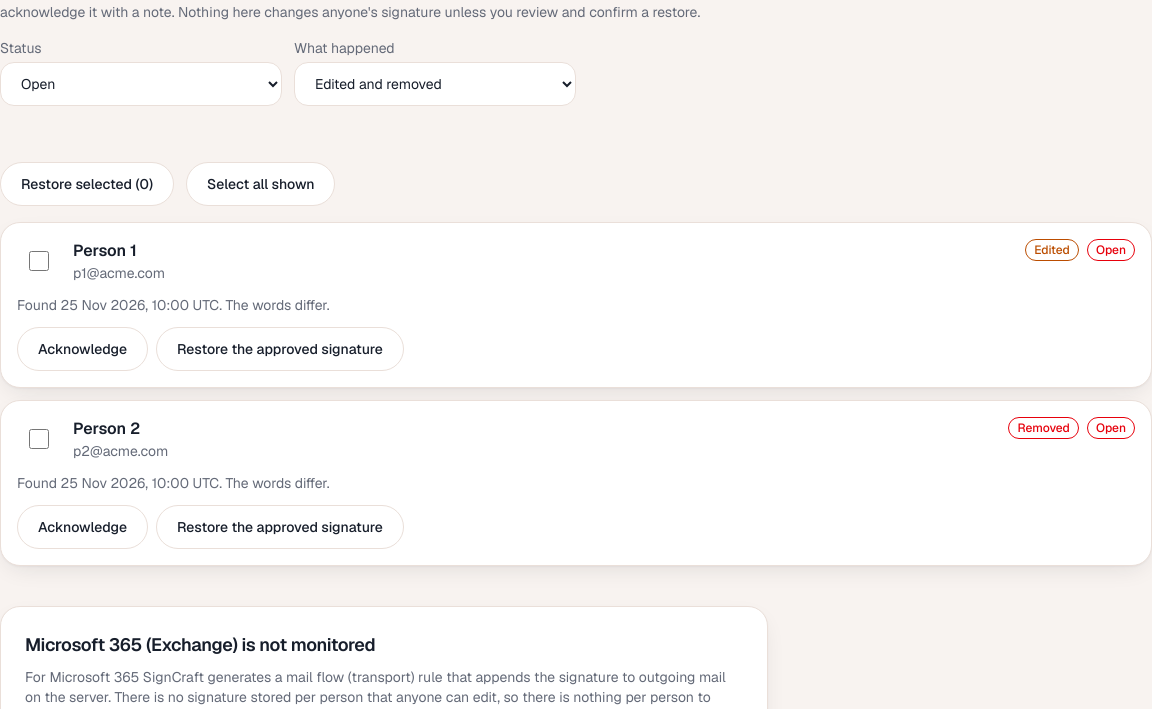
Test: health screen › restore: plans first, writes nothing until the box is ticked and the exact button is pressed
This screenshot has width=1152, height=709.
(page scrolled)
Check: the text "Person 1" is shown, box [73,240,137,261]
Click the button "Restore the approved signature" below "Person 1" at (280, 349), box [156,327,404,371]
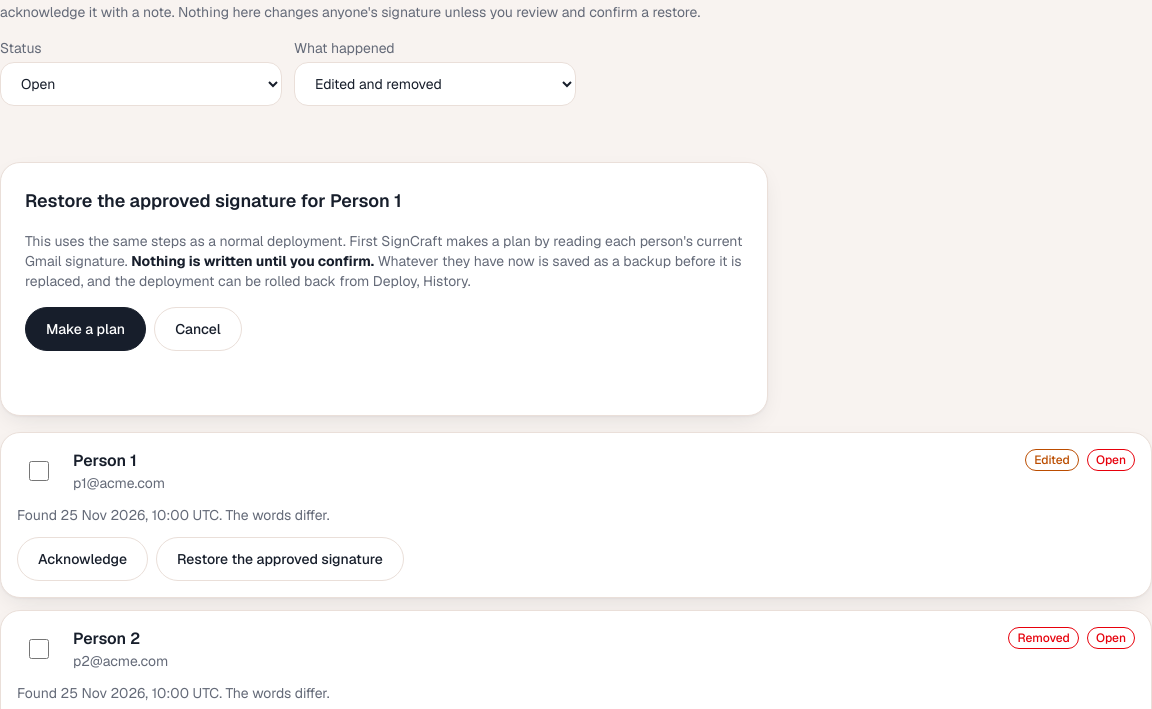
Click the button "Make a plan" at (86, 329), box [25,307,146,351]
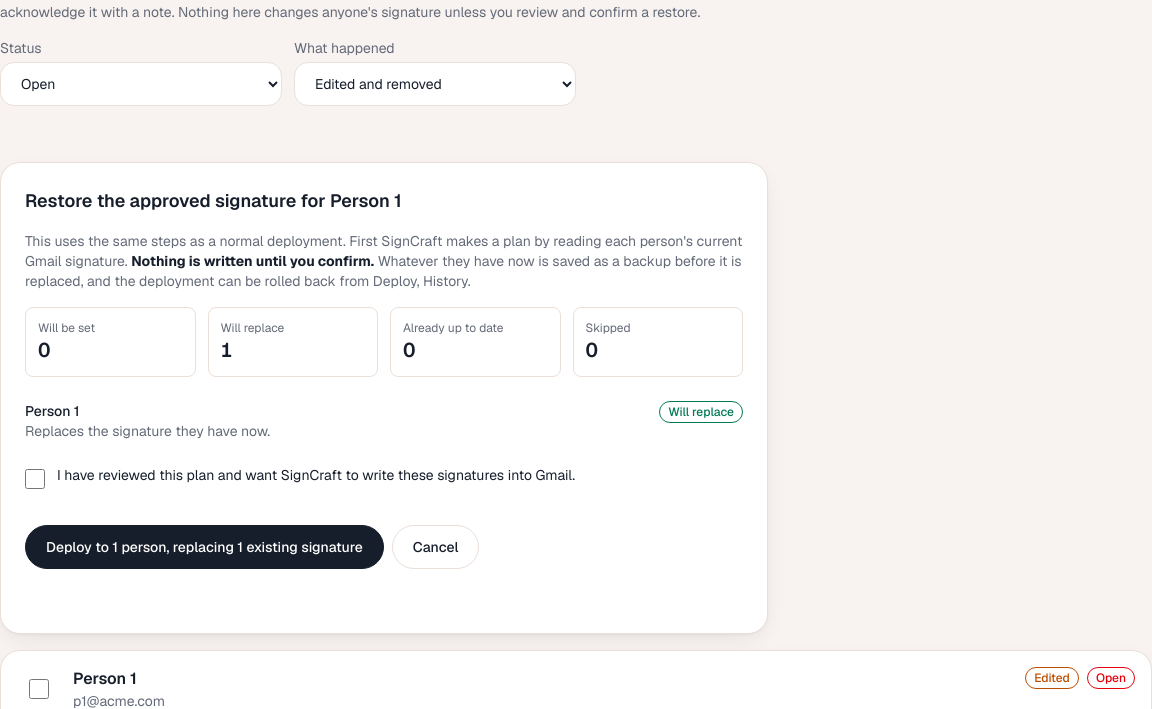
Check: the button "Deploy to 1 person, replacing 1 existing signature" is disabled, box [25,525,384,569]
Click the checkbox labelled "I have reviewed this plan" at (35, 479), box [25,469,45,489]
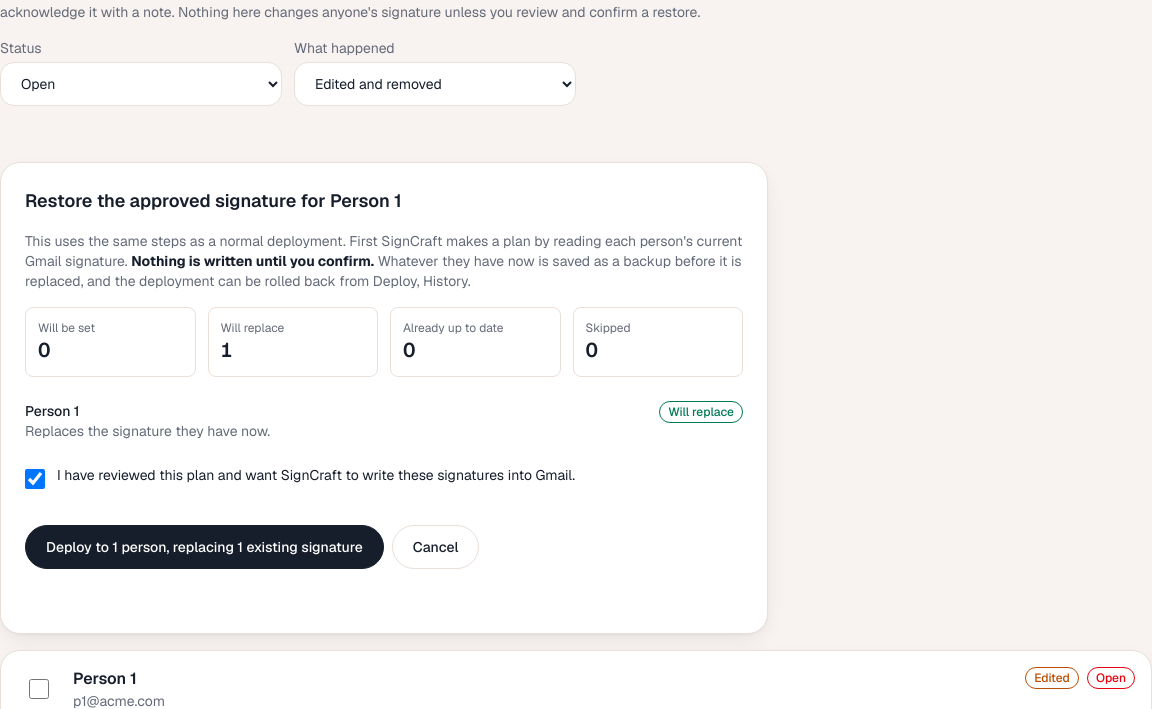
Click the button "Deploy to 1 person, replacing 1 existing signature" at (204, 547), box [25,525,384,569]
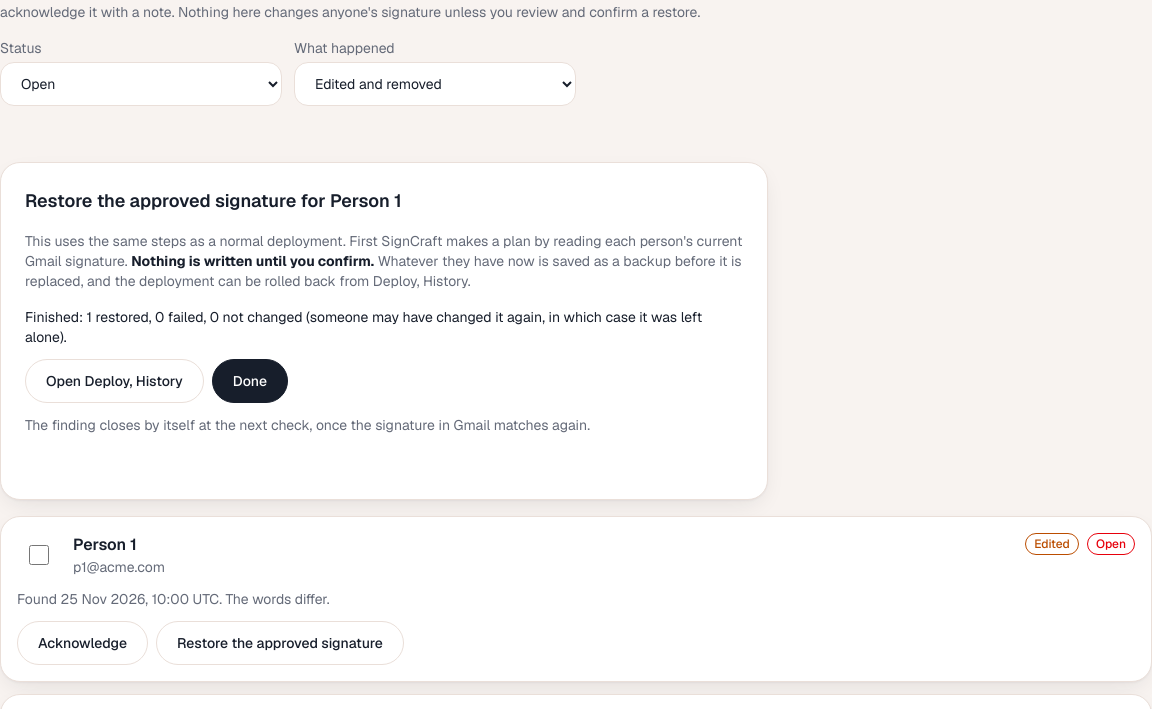
Check: the text "Finished: 1 restored" is shown, box [25,308,702,346]
